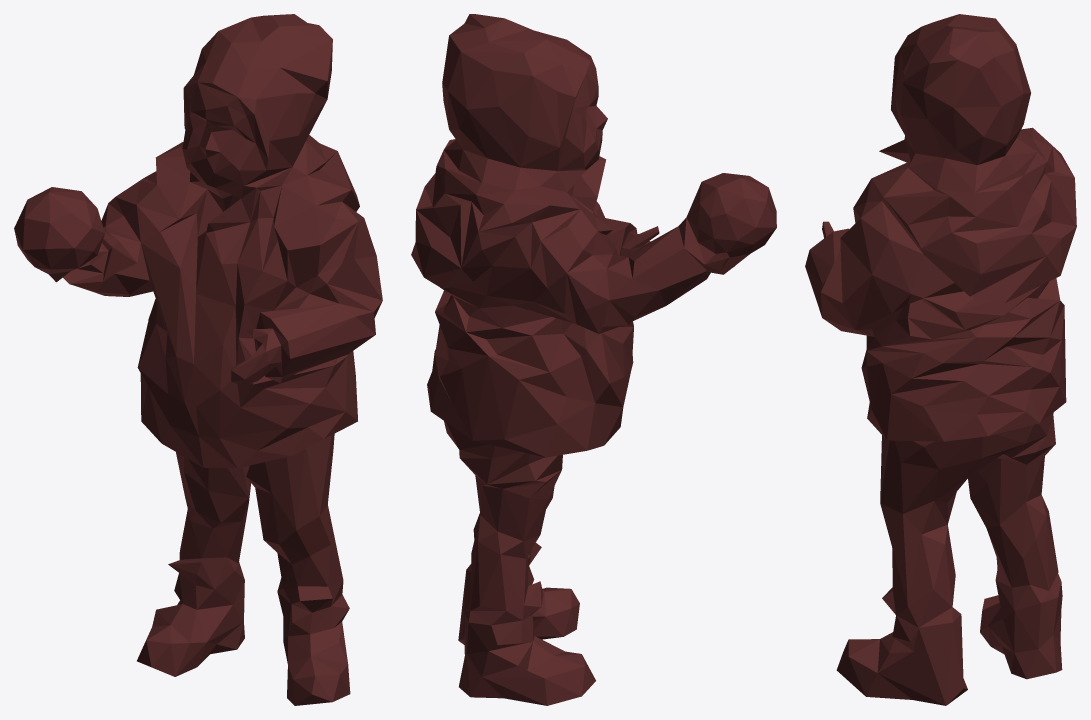
File: children.fbx
The picture shows the model from 3 angles, left to right: view 1: azimuth 30°, elevation 25°; view 2: azimuth 150°, elevation 25°; view 3: azimuth 270°, elevation 25°; orthographic projection. The views are drawn at different scales.
Parts seen in each view (by area): view 1: lowpolyPeopleChildren2; view 2: lowpolyPeopleChildren2; view 3: lowpolyPeopleChildren2.
Part boxes in pixels (box(x1,y1,x2,y2)): lowpolyPeopleChildren2: box(14, 14, 382, 705); lowpolyPeopleChildren2: box(411, 14, 776, 705); lowpolyPeopleChildren2: box(805, 14, 1076, 705).
Bounding box in the file's own units: 50.51 × 91.56 × 34.45.
